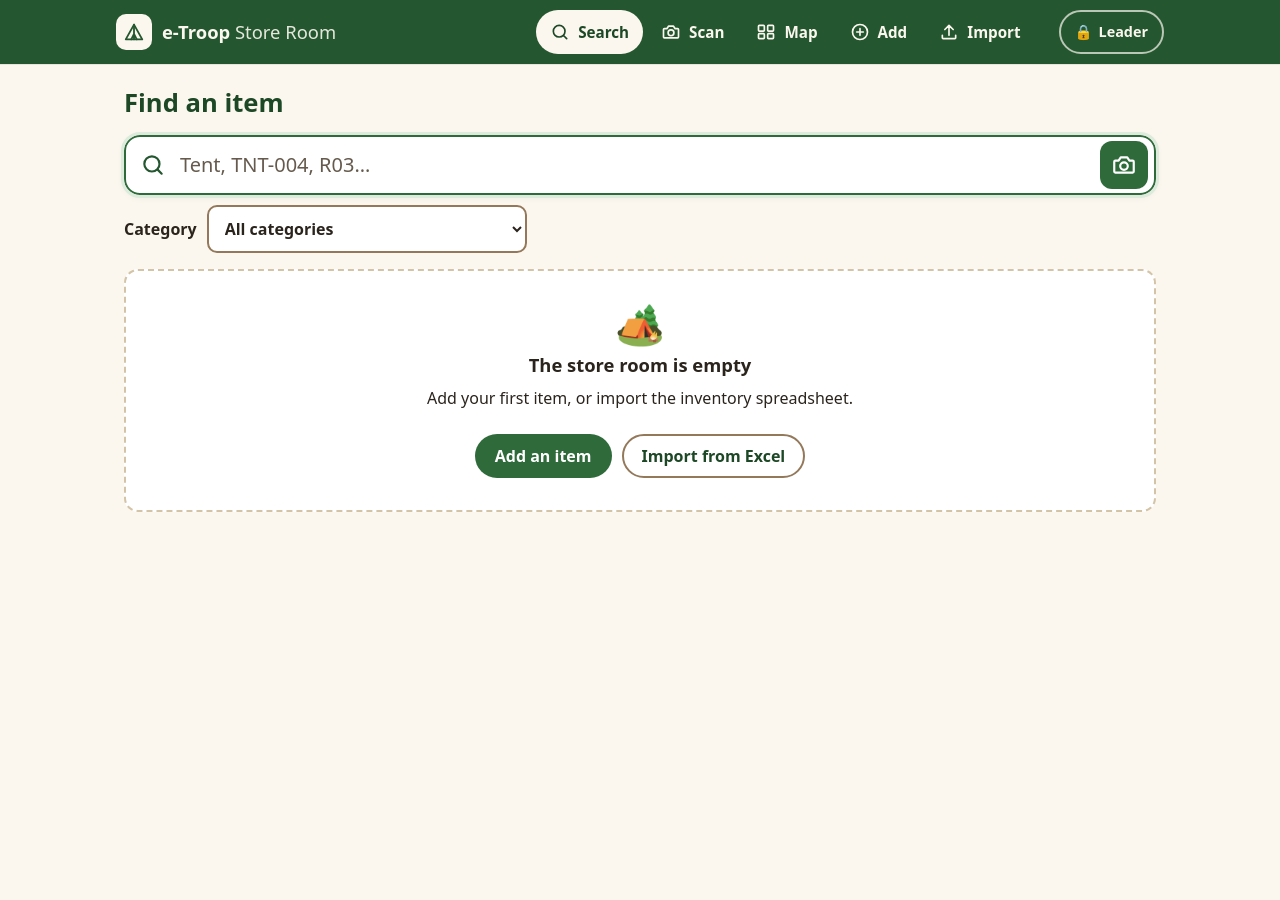
Scenario: PIN dialog (P1, Retry-After, 503, 6–8 digits) › after unlocking with an old short PIN, leaders see a gentle note
Click the button with test id "leader-button". click: [1111, 32]
box: [1058,10,1164,54]
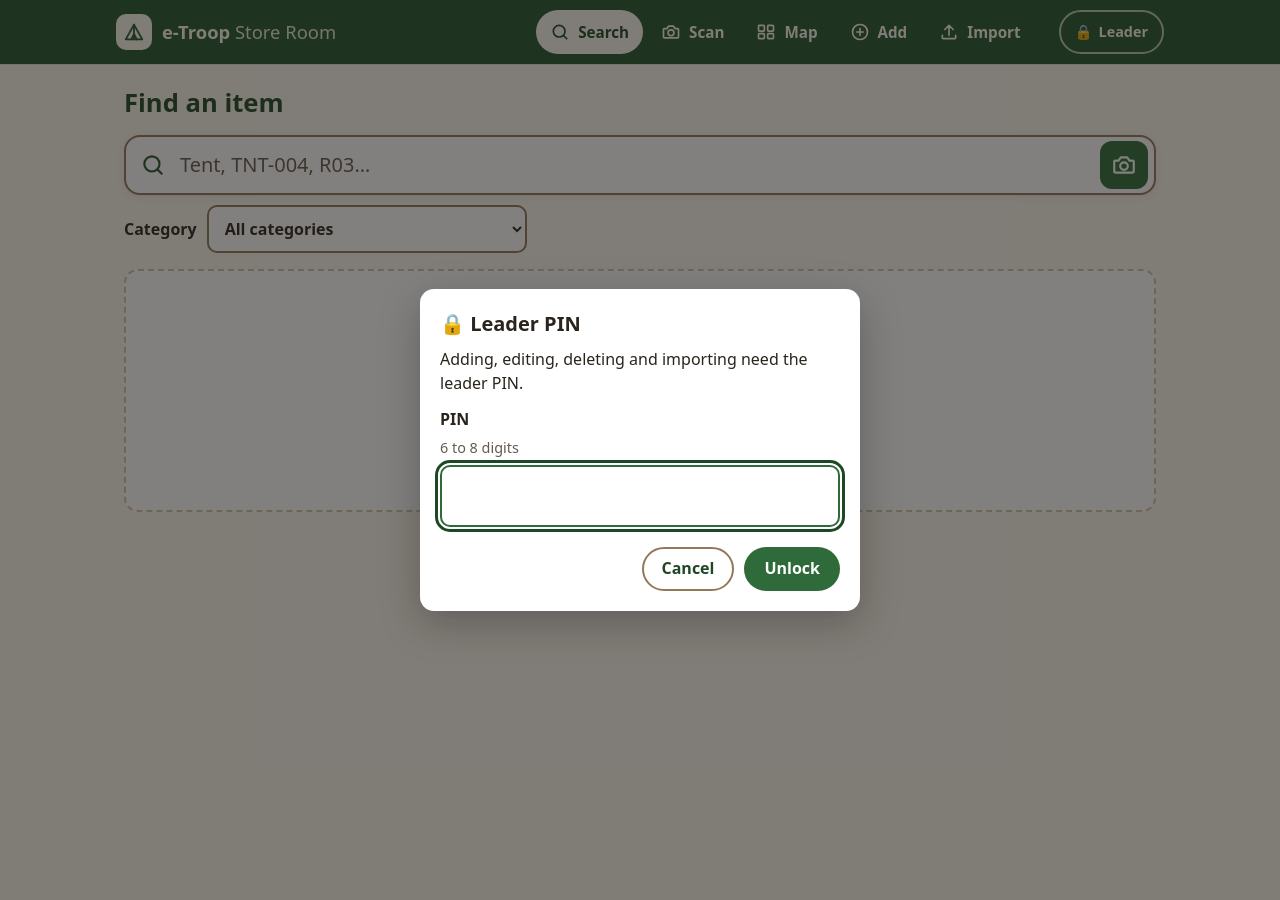
Type "2468" into the password field labelled "PIN". click: [640, 496]
box: [440,465,840,527]
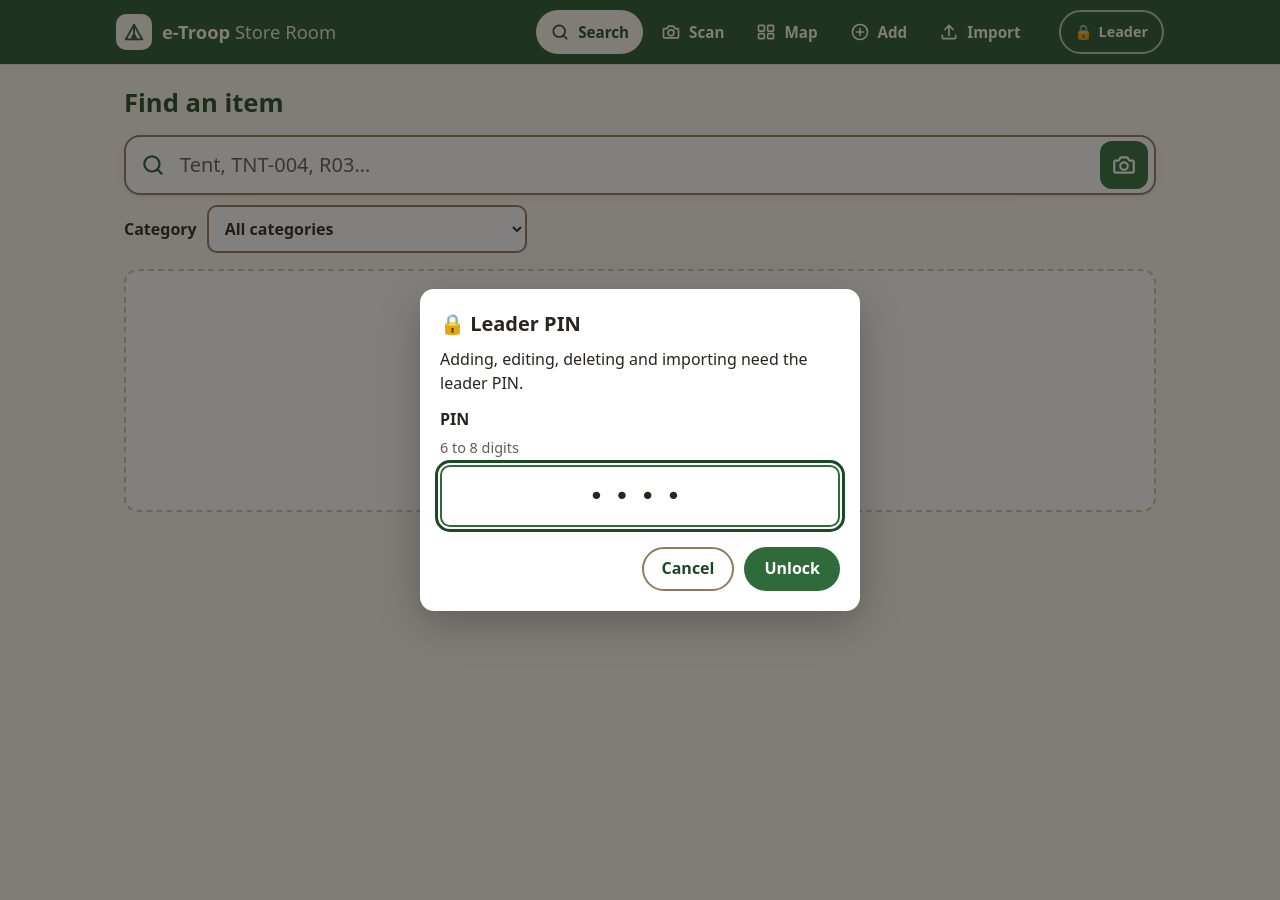
Click the button "Unlock". click: [792, 569]
box: [744,547,840,591]
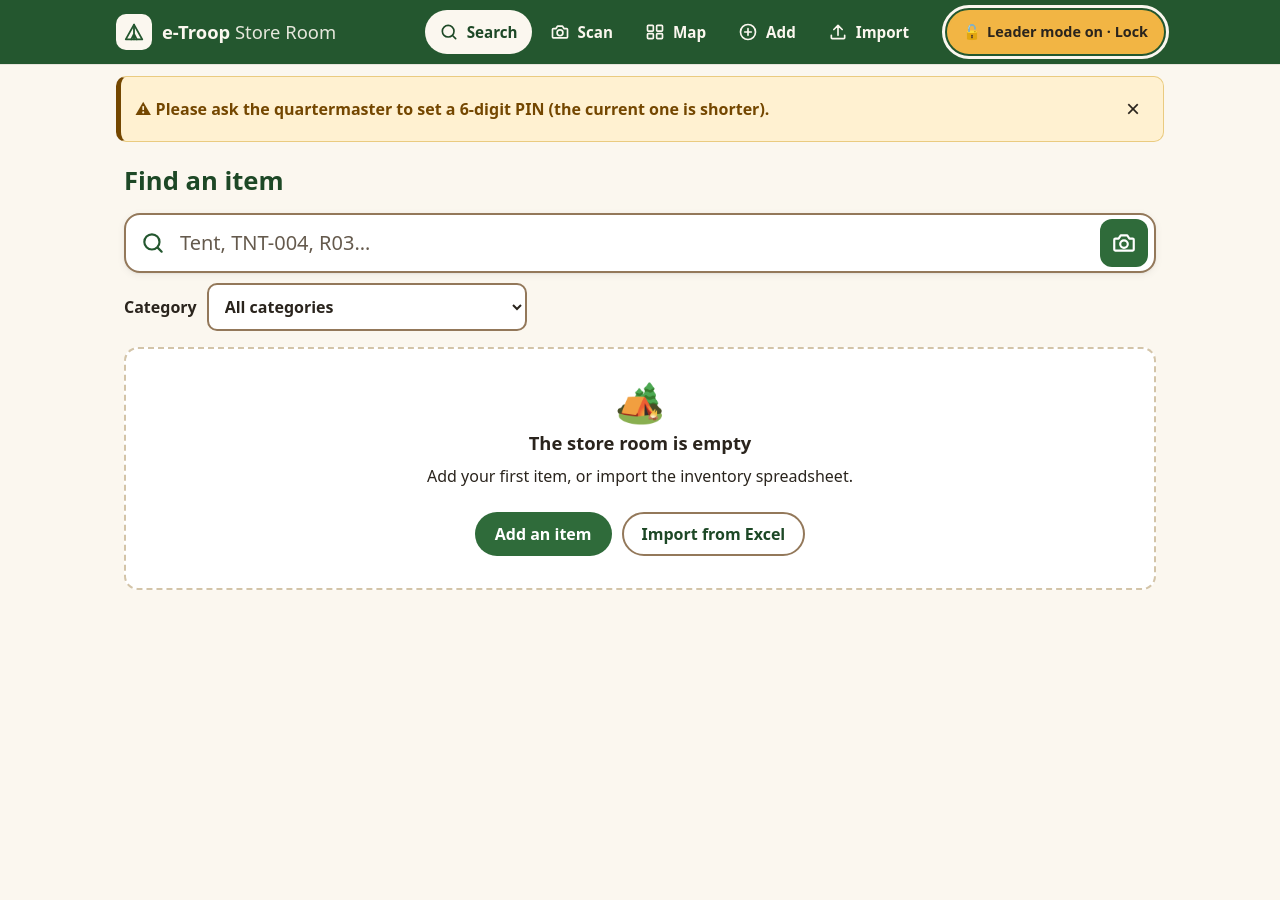
Now the element with test id "pin-notice" shows "Please ask the quartermaster to set a 6-digit PIN", box [156,98,769,120]
Click the button named "Dismiss PIN notice". click: [1133, 109]
box: [1111,87,1155,131]
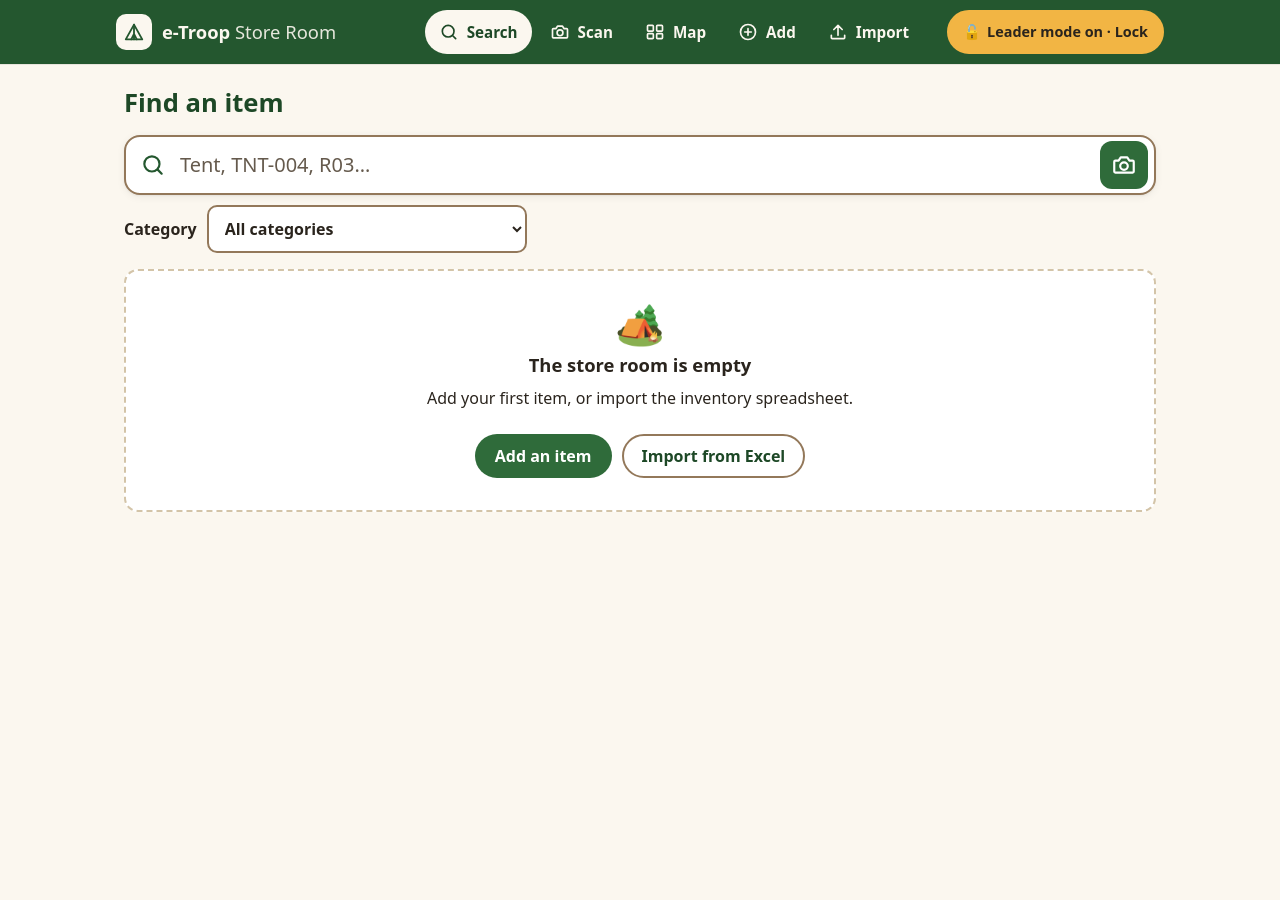
Now the element with test id "pin-notice" is gone
